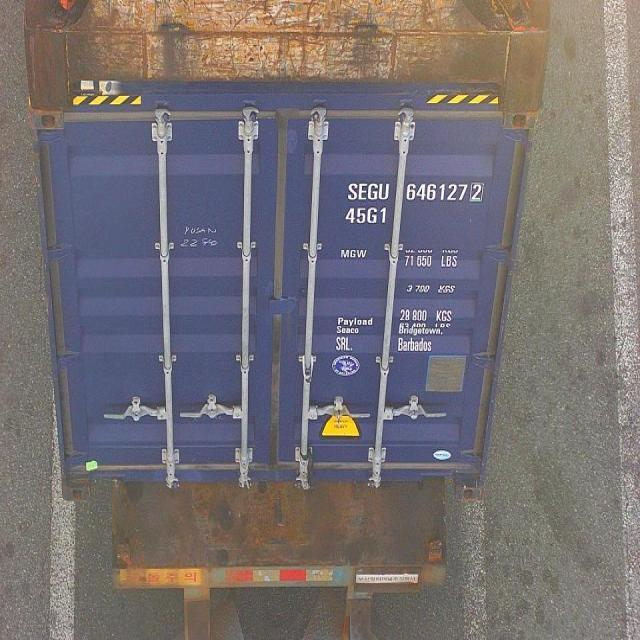ISO: (342, 204, 390, 230)
container_number: (342, 180, 488, 208)
